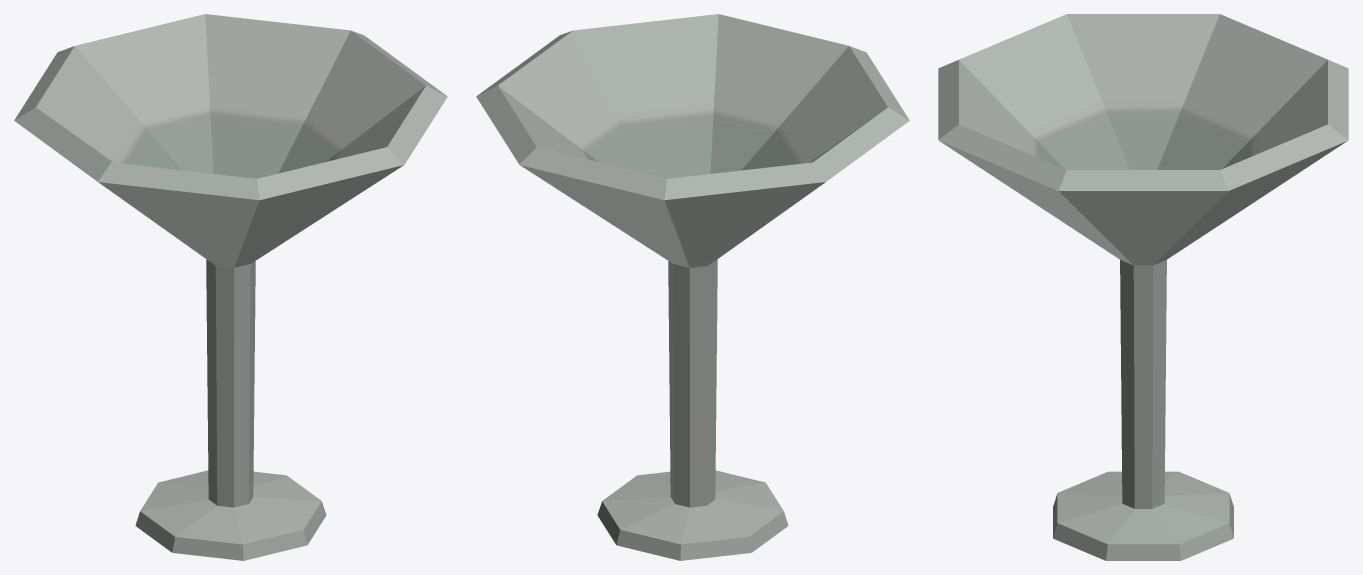
The model's file is SM_Prop_Bar_Glass_Empty_12.obj.
3 views of the same model, side by side, from view 1: azimuth 30°, elevation 25°; view 2: azimuth 150°, elevation 25°; view 3: azimuth 270°, elevation 25° (orthographic).
Parts seen in each view (by area): view 1: SM_Prop_Bar_Glass_Empty_12_0; view 2: SM_Prop_Bar_Glass_Empty_12_0; view 3: SM_Prop_Bar_Glass_Empty_12_0.
Part boxes in pixels (<box>): SM_Prop_Bar_Glass_Empty_12_0: <box>14,14,447,560</box>; SM_Prop_Bar_Glass_Empty_12_0: <box>476,14,909,560</box>; SM_Prop_Bar_Glass_Empty_12_0: <box>938,14,1348,560</box>.
Size of the model in its own units: 0.1948 by 0.2256 by 0.1948.
Materials: 1 (1 with a texture image).
